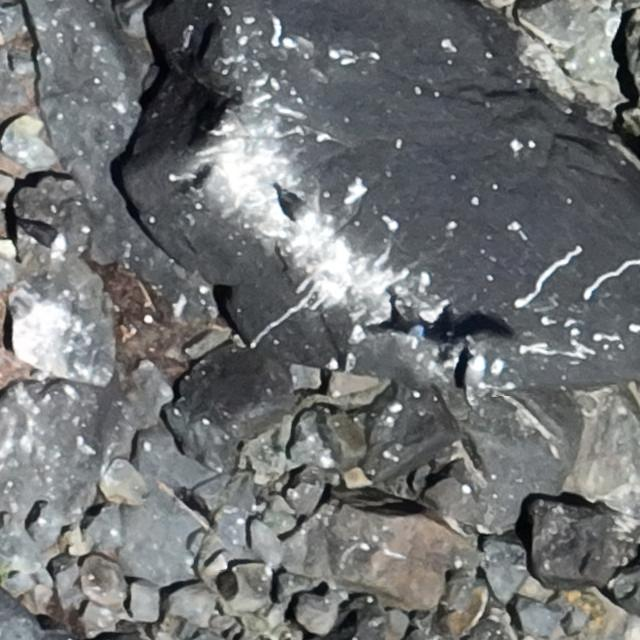umineko: (30, 225, 66, 247), (280, 195, 308, 222), (465, 358, 483, 394)
